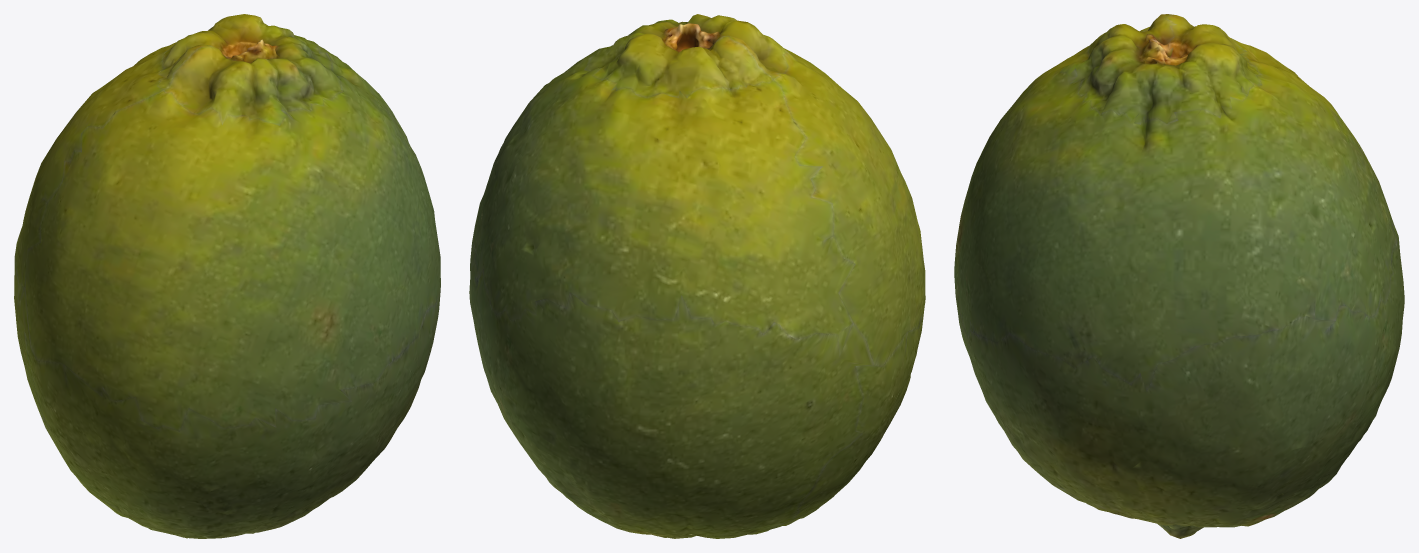
The model's file is food_lime_01.glb.
3 views of the same model, side by side, from view 1: azimuth 30°, elevation 25°; view 2: azimuth 150°, elevation 25°; view 3: azimuth 270°, elevation 25° (orthographic).
Parts seen in each view (by area): view 1: food_lime_01; view 2: food_lime_01; view 3: food_lime_01.
Boxes of the visible parts, bbox=[...] form: food_lime_01: bbox=[14, 14, 440, 538]; food_lime_01: bbox=[469, 14, 925, 538]; food_lime_01: bbox=[954, 14, 1404, 538].
Size of the model in its own units: 0.0601 by 0.0754 by 0.0613.
1 material, 1 textured.
